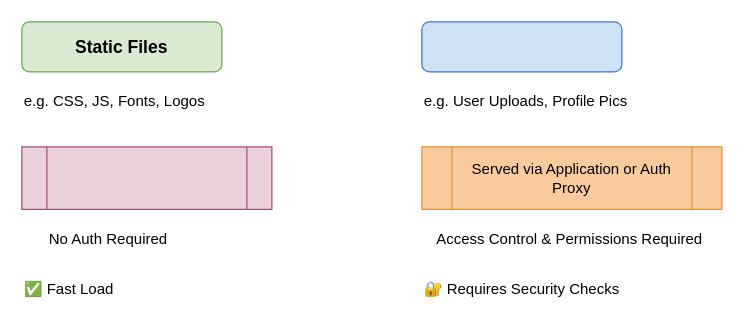
This 744x331 diagram has some shape labels left out. Each missing label, with the centre of its shape:
"Media Files" belongs at (521,46).
"Served Directly (via CDN or Nginx)" belongs at (146,177).
